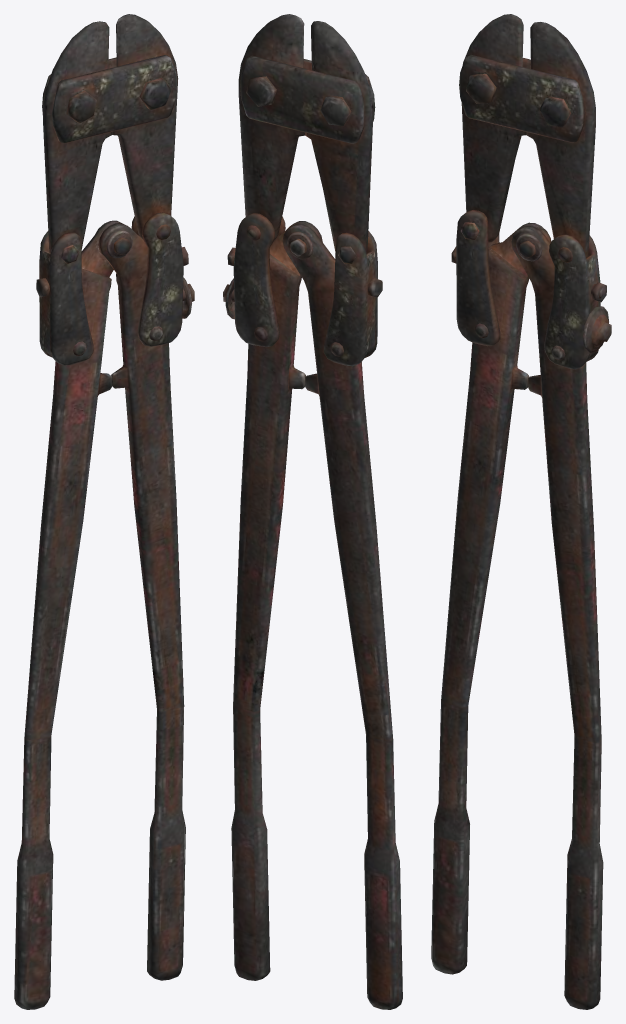
Rendered from bolt_cutters.glb.
3 views of the same model, side by side, from view 1: azimuth 30°, elevation 25°; view 2: azimuth 150°, elevation 25°; view 3: azimuth 330°, elevation 25° (orthographic).
Parts seen in each view (by area): view 1: bolt_cutters_01; view 2: bolt_cutters_01; view 3: bolt_cutters_01.
Boxes of the visible parts, left/top/right/bottom form: bolt_cutters_01: left=14, top=14, right=194, bottom=1009; bolt_cutters_01: left=223, top=14, right=402, bottom=1009; bolt_cutters_01: left=431, top=14, right=611, bottom=1009.
Bounding box in the file's own units: 0.151 × 0.8026 × 0.036.
1 material, 1 textured.
